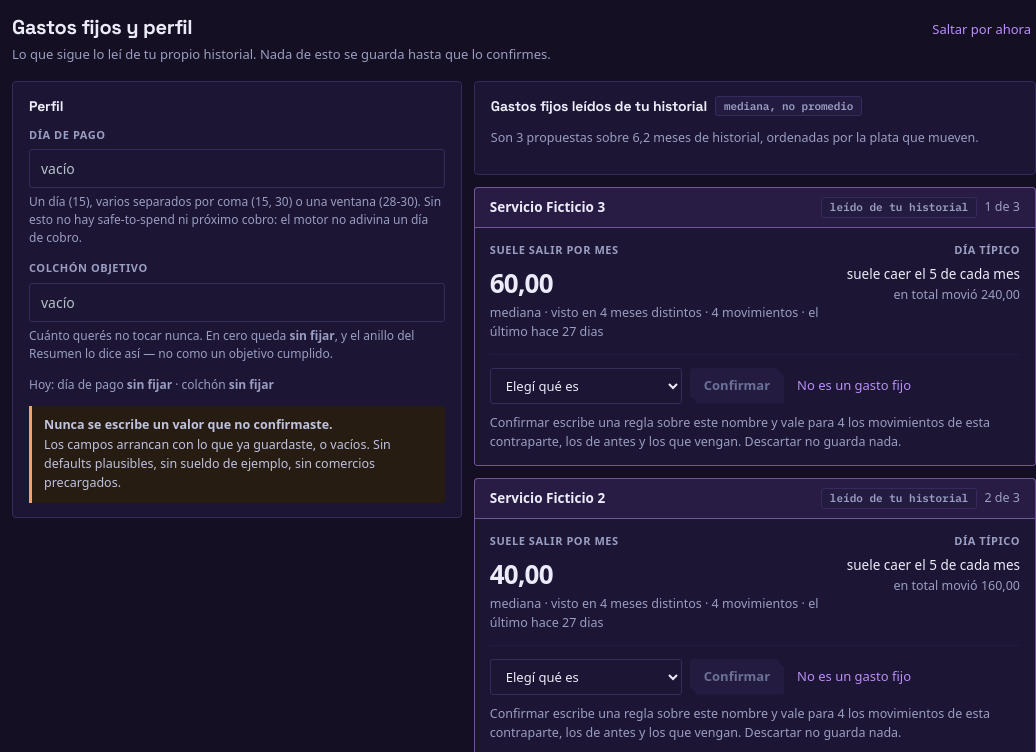
Test: nada se guarda sin confirmación explícita (criterio 4) › la propuesta confirmada se va de la lista y la pantalla dice qué movió
The image size is (1036, 752).
Select "Servicios" in the dropdown with test id "recurring-selector" below "en total movió 240,00" at {"x": 586, "y": 386}, box 490,368 -> 682,404
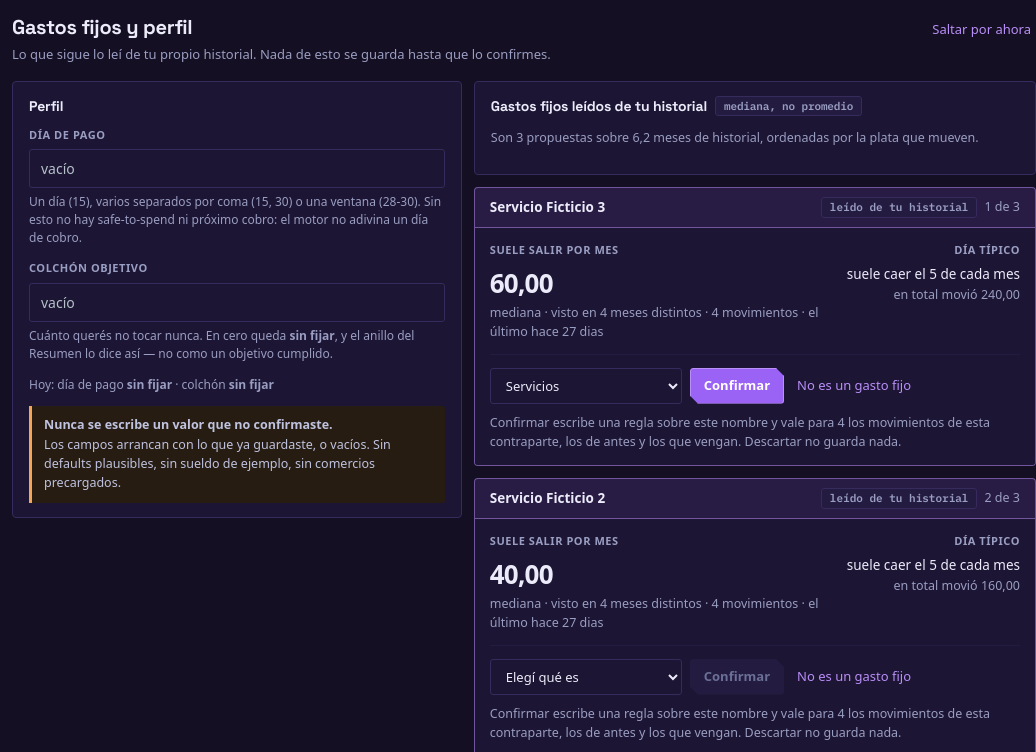
Click the button with test id "recurring-confirmar" below "en total movió 240,00" at {"x": 737, "y": 386}, box 690,368 -> 784,404
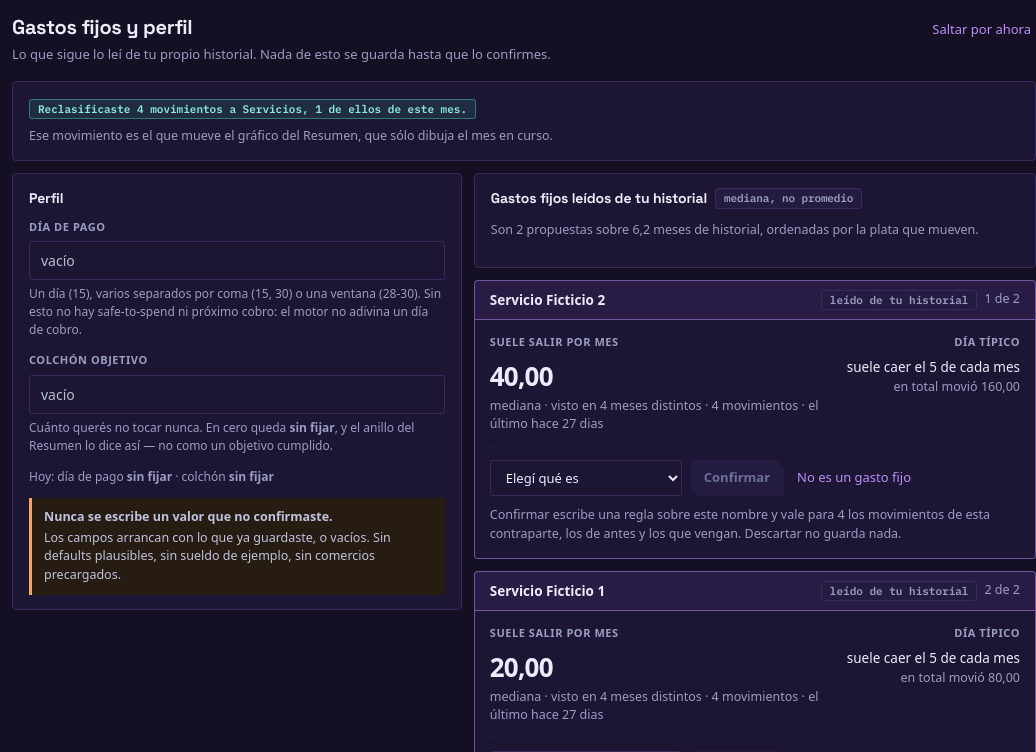
Expected: the element with test id "alta-efecto" shows "4 movimientos", 38,102 -> 467,116
